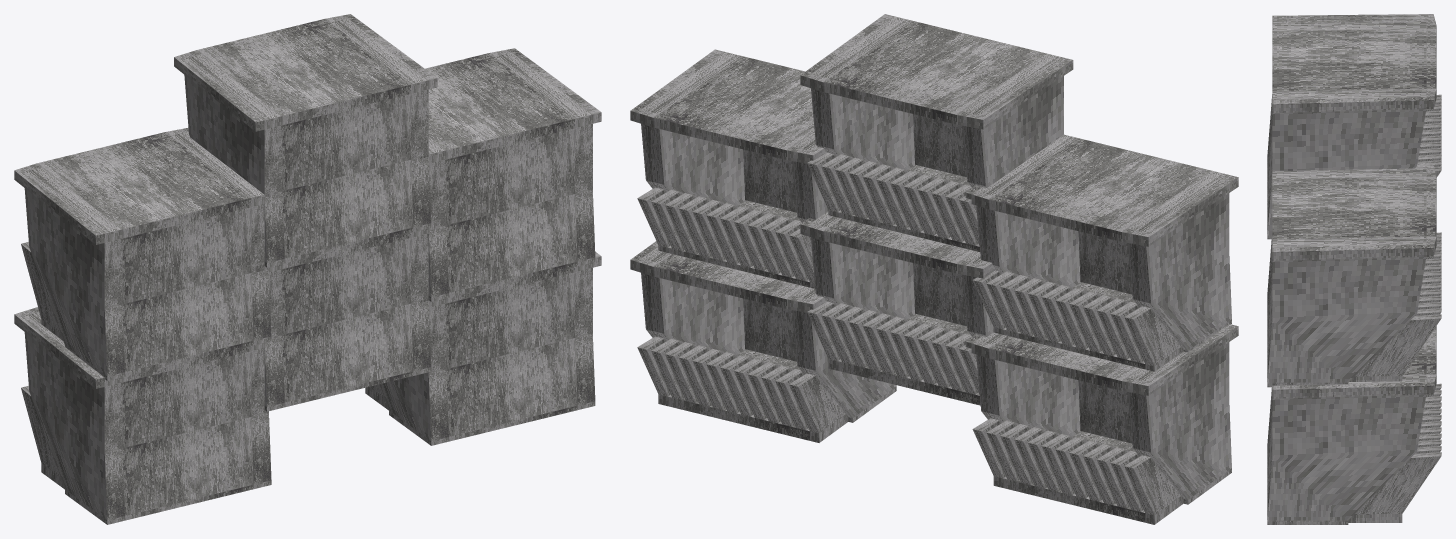
3 views of the same model, side by side, from view 1: azimuth 30°, elevation 25°; view 2: azimuth 150°, elevation 25°; view 3: azimuth 270°, elevation 25° (orthographic). The views are drawn at different scales.
Visible parts, largest first — view 1: cuboid (×6); view 2: cuboid (×6); view 3: cuboid (×4).
Boxes of the visible parts, x1,y1,x2,y2 form: cuboid (×6): (14,14,601,524); cuboid (×6): (630,14,1238,524); cuboid (×4): (1267,14,1441,524).
Bounding box in the file's own units: 7.12 × 4.94 × 2.22.
1 material, 1 textured.
